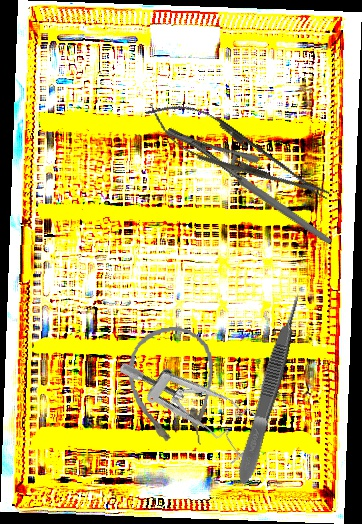Cannula: (122, 322, 224, 453)
Needle Holder: (164, 89, 333, 284), (137, 87, 340, 219)
Speculum: (116, 323, 271, 477)
Tissue Forceps: (232, 291, 309, 487)
